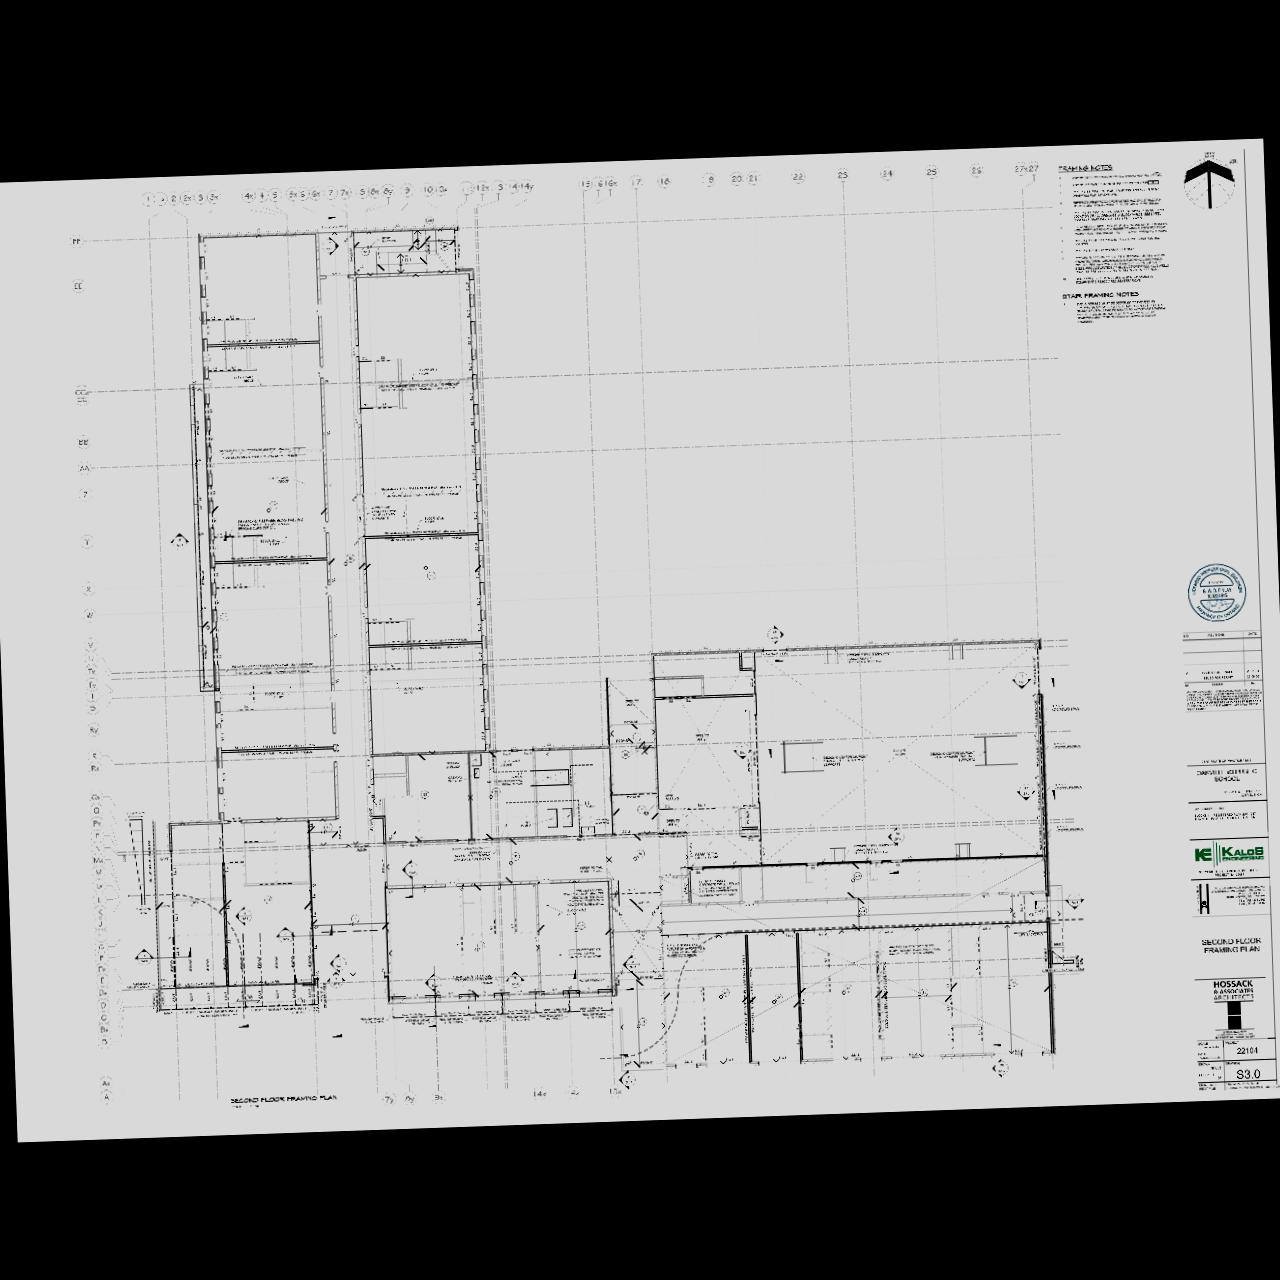detail: (425, 568, 438, 581), (261, 893, 275, 905), (636, 1014, 648, 1027), (620, 748, 632, 761), (322, 821, 334, 833), (636, 930, 651, 940), (774, 990, 785, 1002), (635, 803, 647, 815), (490, 785, 502, 797), (418, 788, 430, 799), (631, 730, 642, 742), (438, 239, 449, 252), (360, 246, 373, 257), (189, 896, 199, 908), (346, 552, 356, 564), (219, 612, 231, 622), (1008, 976, 1020, 987), (720, 986, 731, 996), (476, 939, 488, 949), (350, 912, 361, 924), (851, 871, 864, 880), (576, 920, 588, 930), (268, 499, 279, 510), (858, 905, 869, 915), (635, 847, 646, 858), (402, 254, 414, 264), (843, 982, 852, 994), (424, 215, 434, 225), (919, 987, 930, 996), (1034, 906, 1043, 915), (511, 851, 520, 860), (245, 993, 253, 1001)
elevation: (400, 857, 422, 881), (423, 969, 443, 995), (504, 968, 526, 990), (232, 905, 254, 927), (885, 824, 906, 847), (765, 624, 787, 646), (1064, 888, 1085, 911), (132, 946, 155, 967), (168, 531, 191, 551), (274, 925, 298, 945), (1010, 669, 1032, 690), (1014, 782, 1036, 802), (731, 741, 754, 761), (989, 1056, 1009, 1078), (327, 952, 347, 974), (620, 953, 639, 976), (618, 1067, 635, 1090), (326, 971, 347, 989), (321, 234, 339, 257)
title: (229, 1090, 338, 1109)
